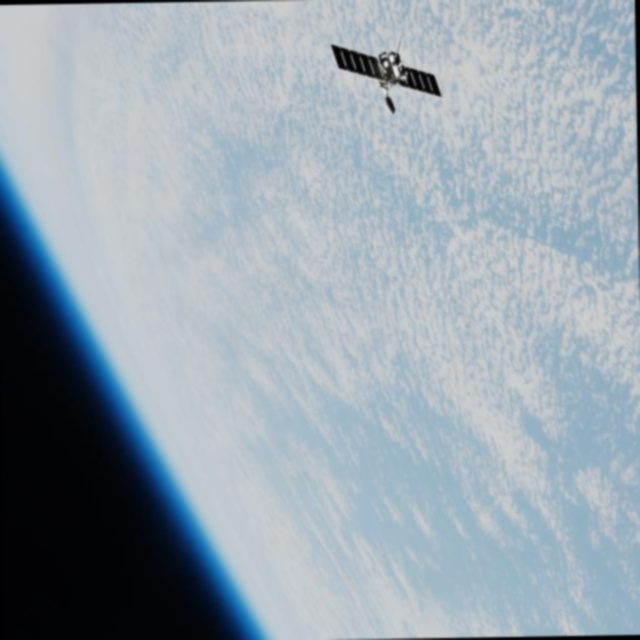medium_debris: (312, 27, 449, 118)
